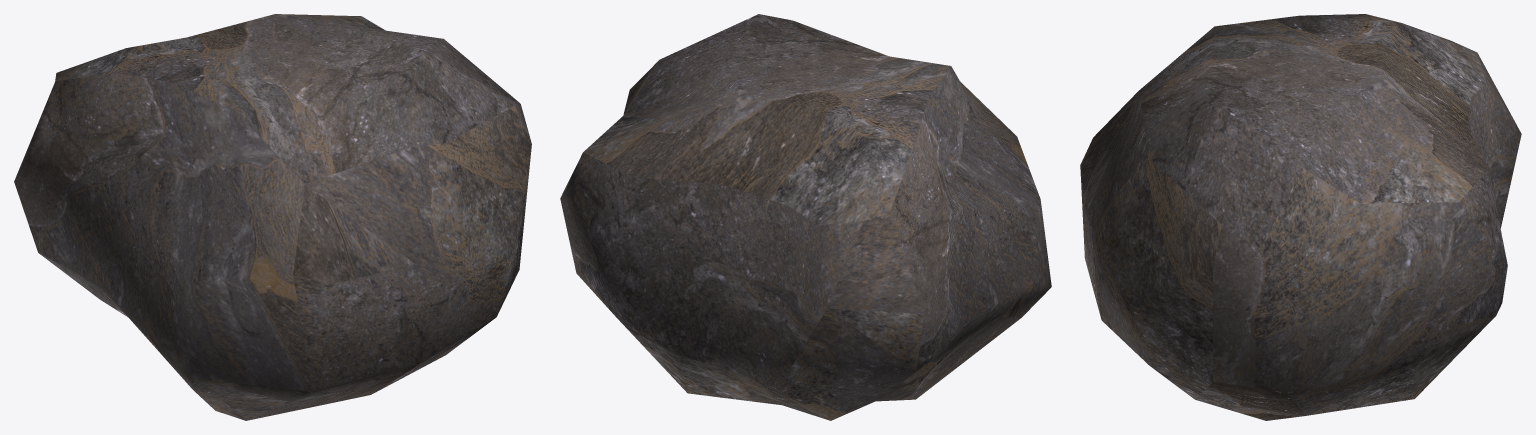
File: RockTwo.obj
The picture shows the model from 3 angles, left to right: view 1: azimuth 30°, elevation 25°; view 2: azimuth 150°, elevation 25°; view 3: azimuth 270°, elevation 25°; orthographic projection. The views are drawn at different scales.
Visible parts, largest first — view 1: Rock2; view 2: Rock2; view 3: Rock2.
Part boxes in pixels (bbox=[...]): Rock2: bbox=[14, 14, 531, 420]; Rock2: bbox=[560, 14, 1051, 420]; Rock2: bbox=[1080, 14, 1521, 420].
Bounding box in the file's own units: 13.68 × 10.98 × 13.27.
Materials: 1 (1 with a texture image).
